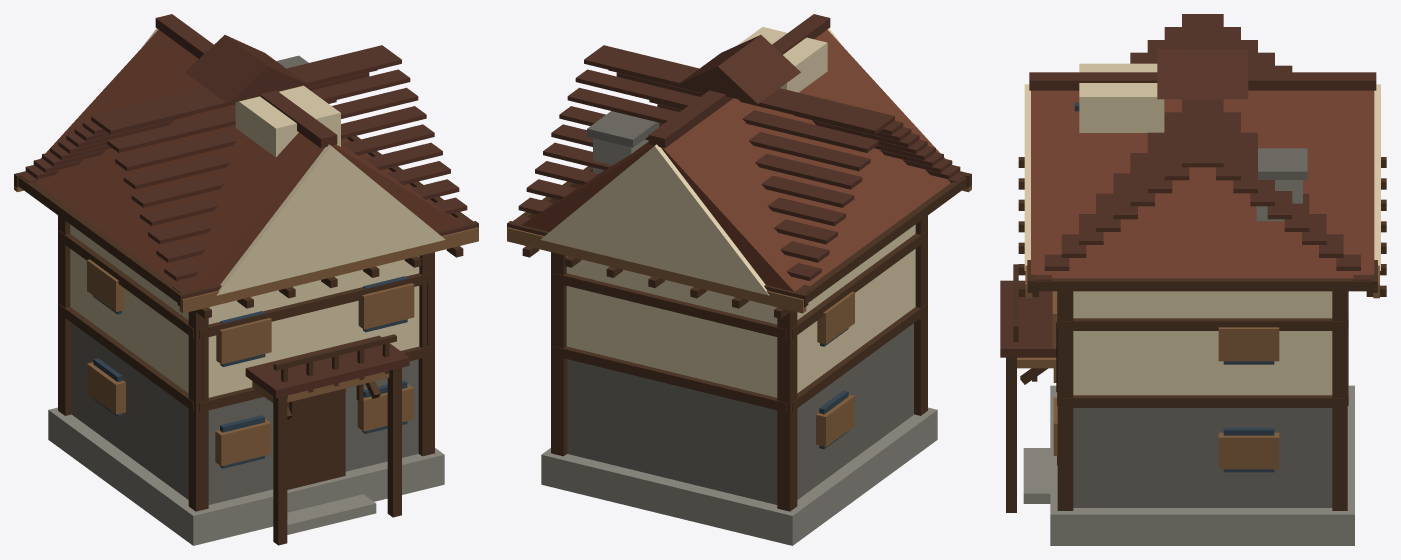
File: house_manor.glb
3 views of the same model, side by side, from view 1: azimuth 30°, elevation 25°; view 2: azimuth 150°, elevation 25°; view 3: azimuth 270°, elevation 25° (orthographic). The views are drawn at different scales.
Parts seen in each view (by area): view 1: house_manor; view 2: house_manor; view 3: house_manor.
Boxes of the visible parts, x1,y1,x2,y2 form: house_manor: (14, 14, 478, 545); house_manor: (507, 14, 971, 545); house_manor: (1000, 14, 1386, 545).
Size of the model in its own units: 4.69 by 6.18 by 5.01.
